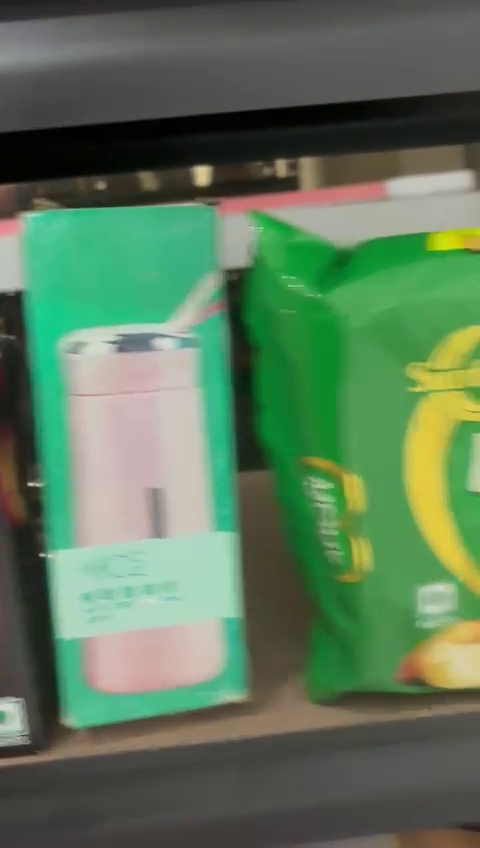Bottle: (14, 209, 260, 729)
